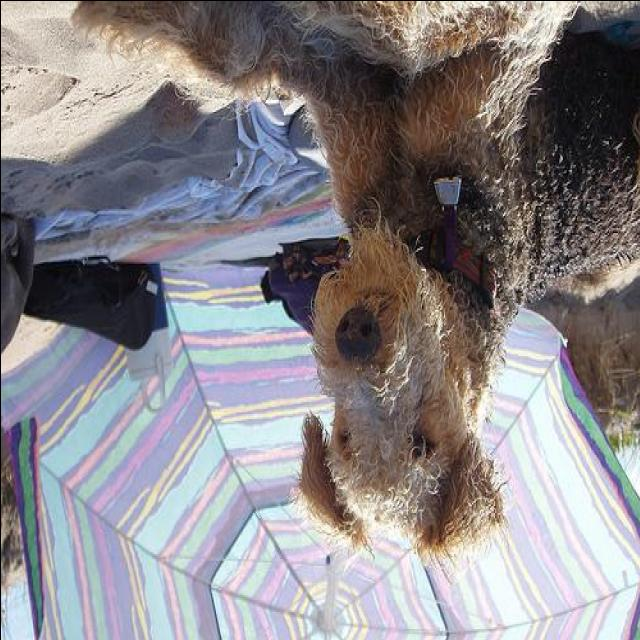airedale: (66, 2, 640, 580)
